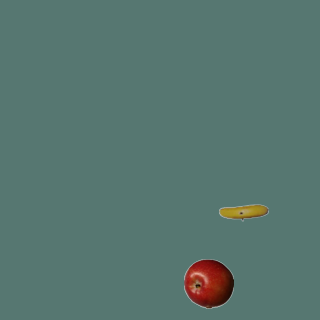Apple Braeburn: (183, 258, 233, 308)
Banana: (218, 187, 268, 237)
